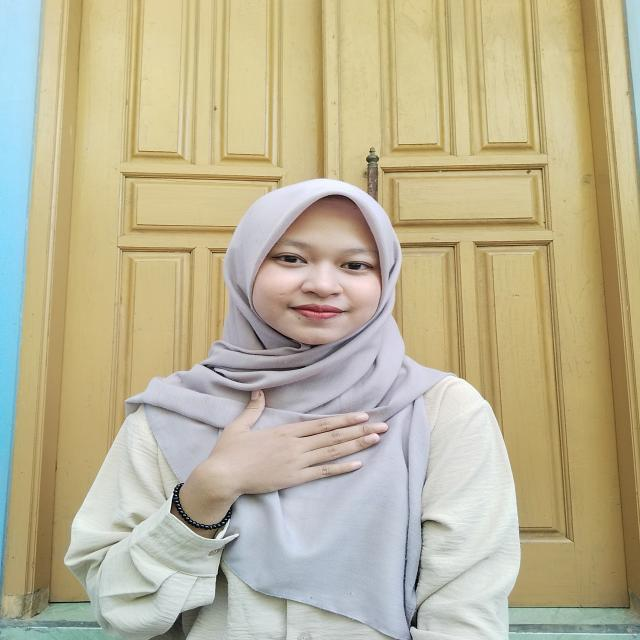tolong: (151, 390, 395, 546)
